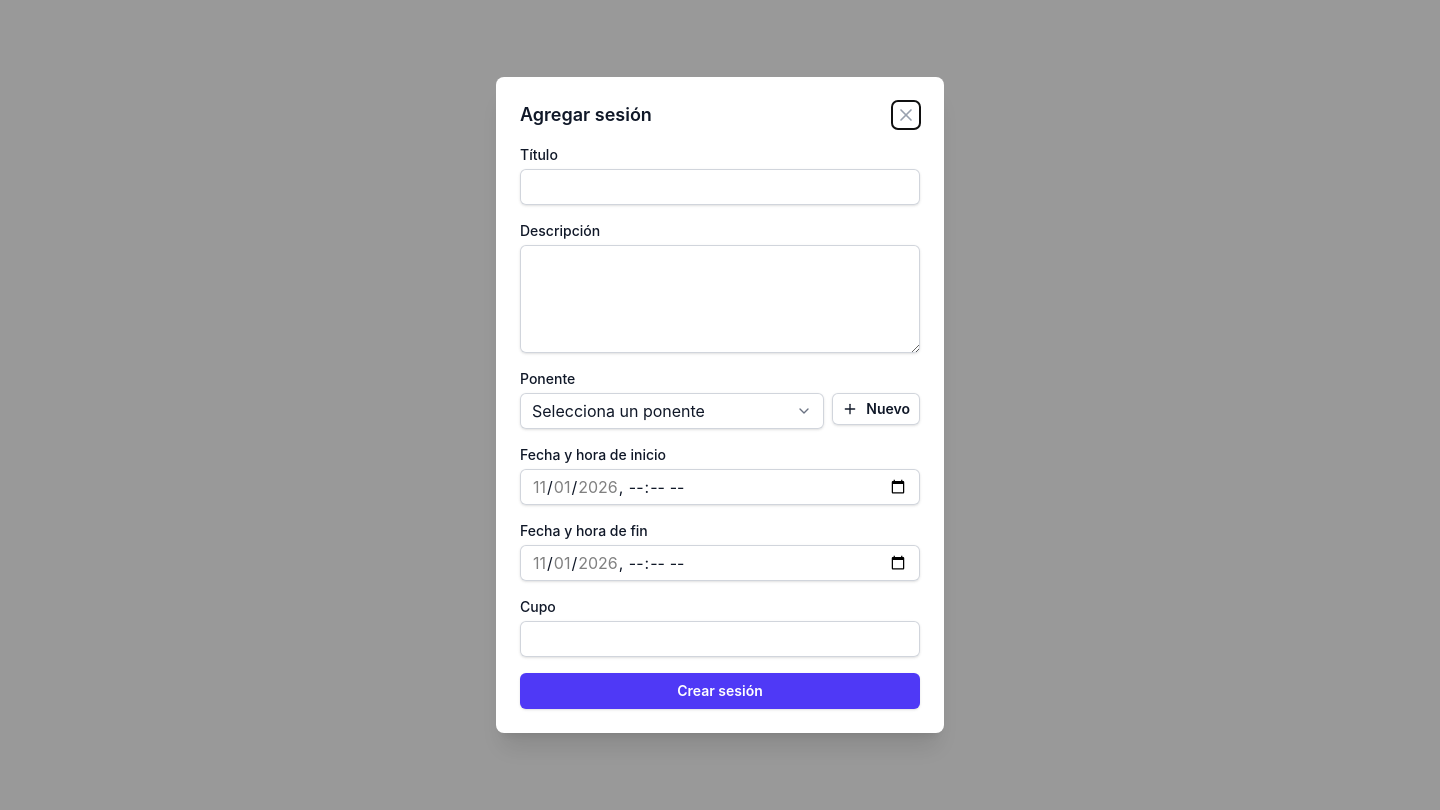
Test case: SessionFormDialog › muestra el error del servidor cuando el horario queda fuera del rango del evento (422 INVALID_SESSION_DATA)
The image size is (1440, 810).
Step 1. Type "Charla fuera de rango" into the field labelled "Título" → (720, 187), box top-left (520, 169), bottom-right (920, 205)
Step 2. Click the dropdown labelled "ponente" → (672, 411), box top-left (520, 393), bottom-right (824, 429)
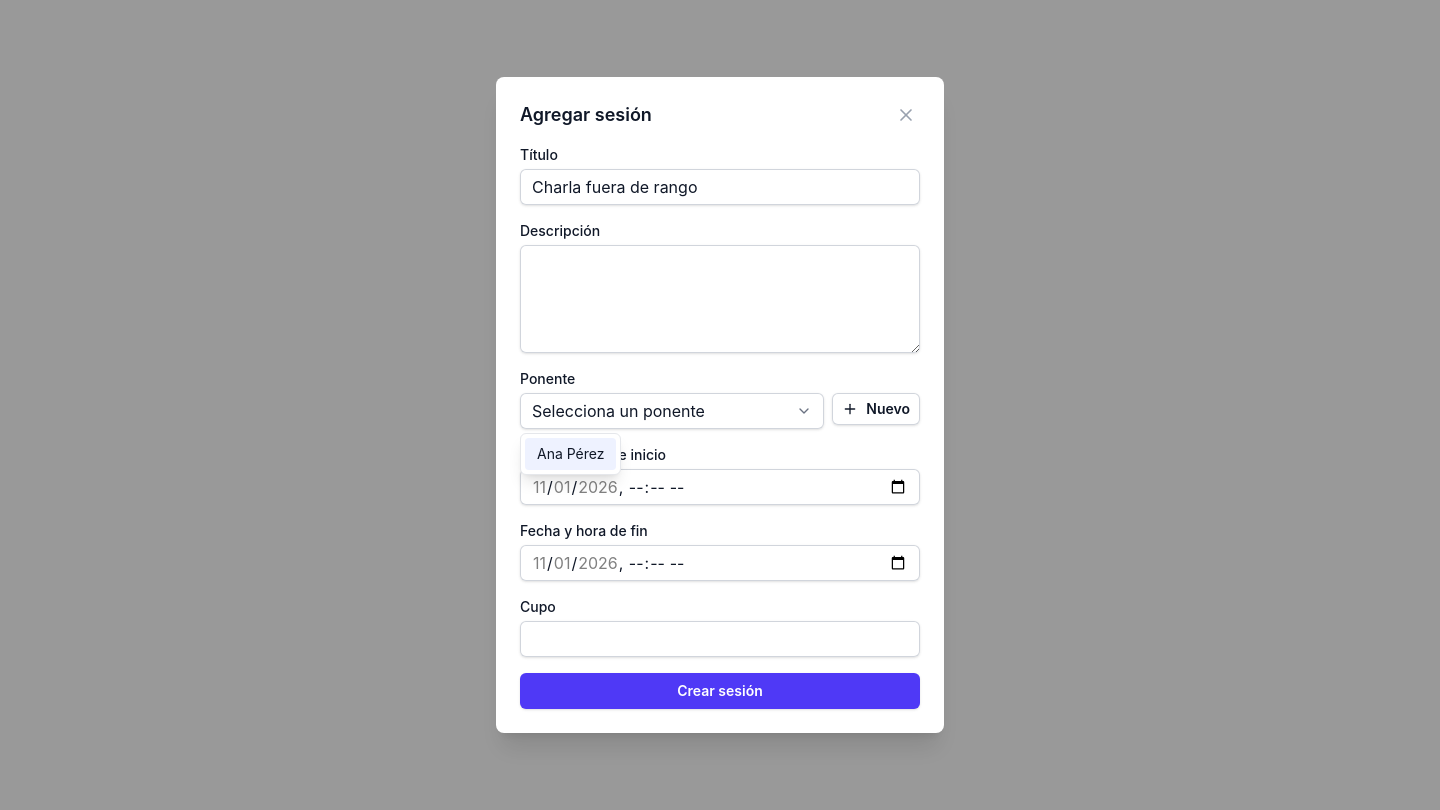
Step 3. Click the option "Ana Pérez" → (571, 454), box top-left (525, 438), bottom-right (616, 470)
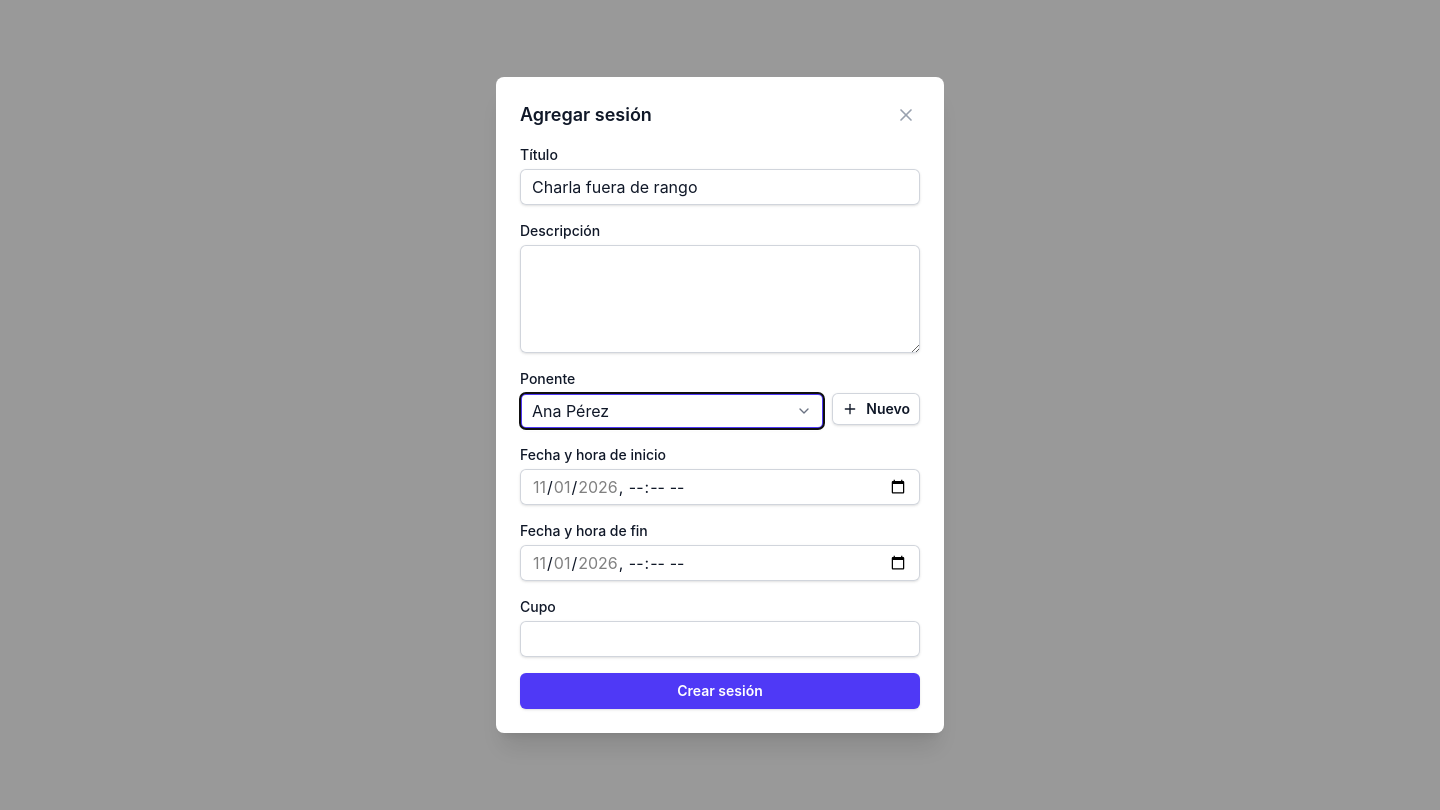
Step 4. Type "2026-11-01T13:00" into the field labelled "Fecha y hora de inicio" → (720, 487), box top-left (520, 469), bottom-right (920, 505)
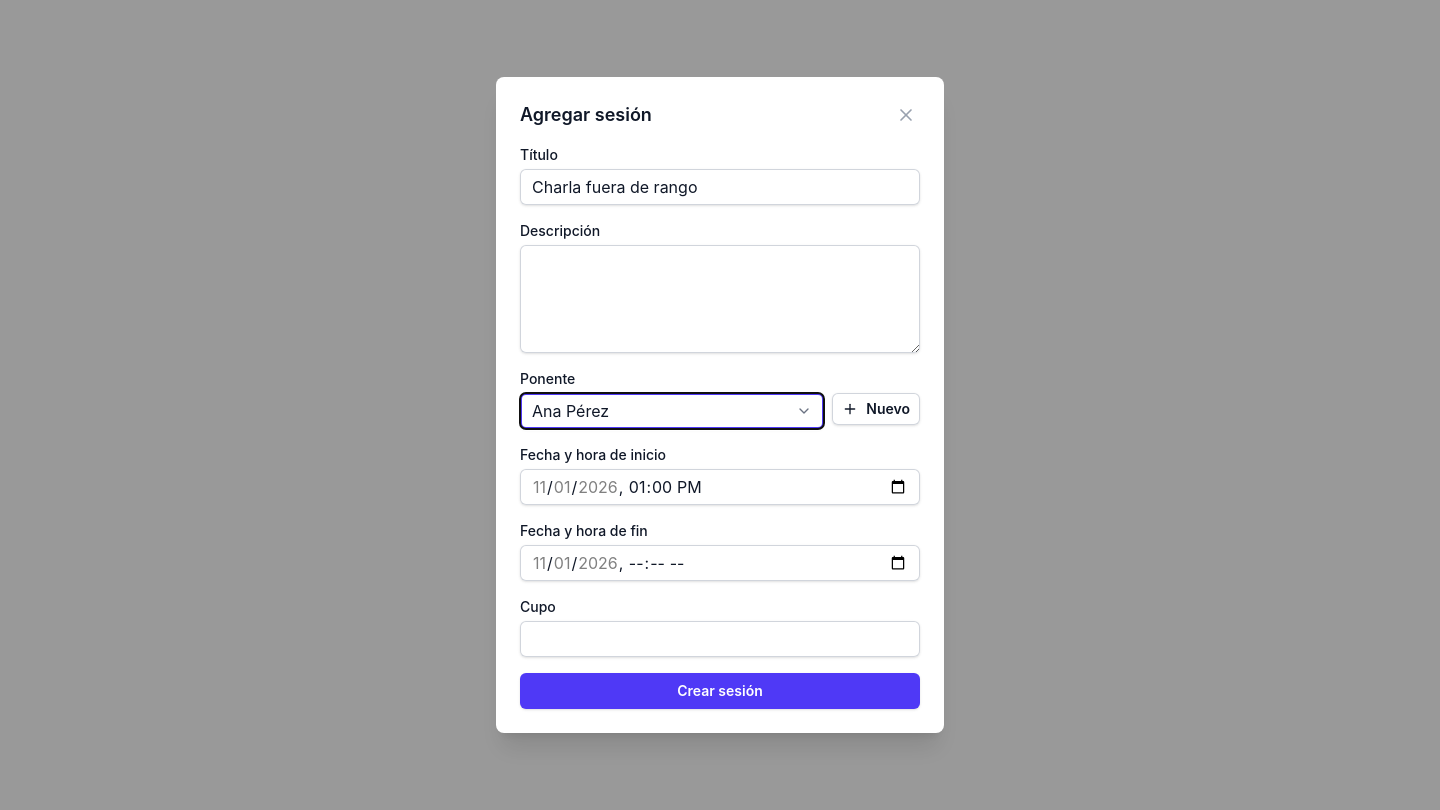
Step 5. Type "2026-11-01T14:00" into the field labelled "Fecha y hora de fin" → (720, 563), box top-left (520, 545), bottom-right (920, 581)
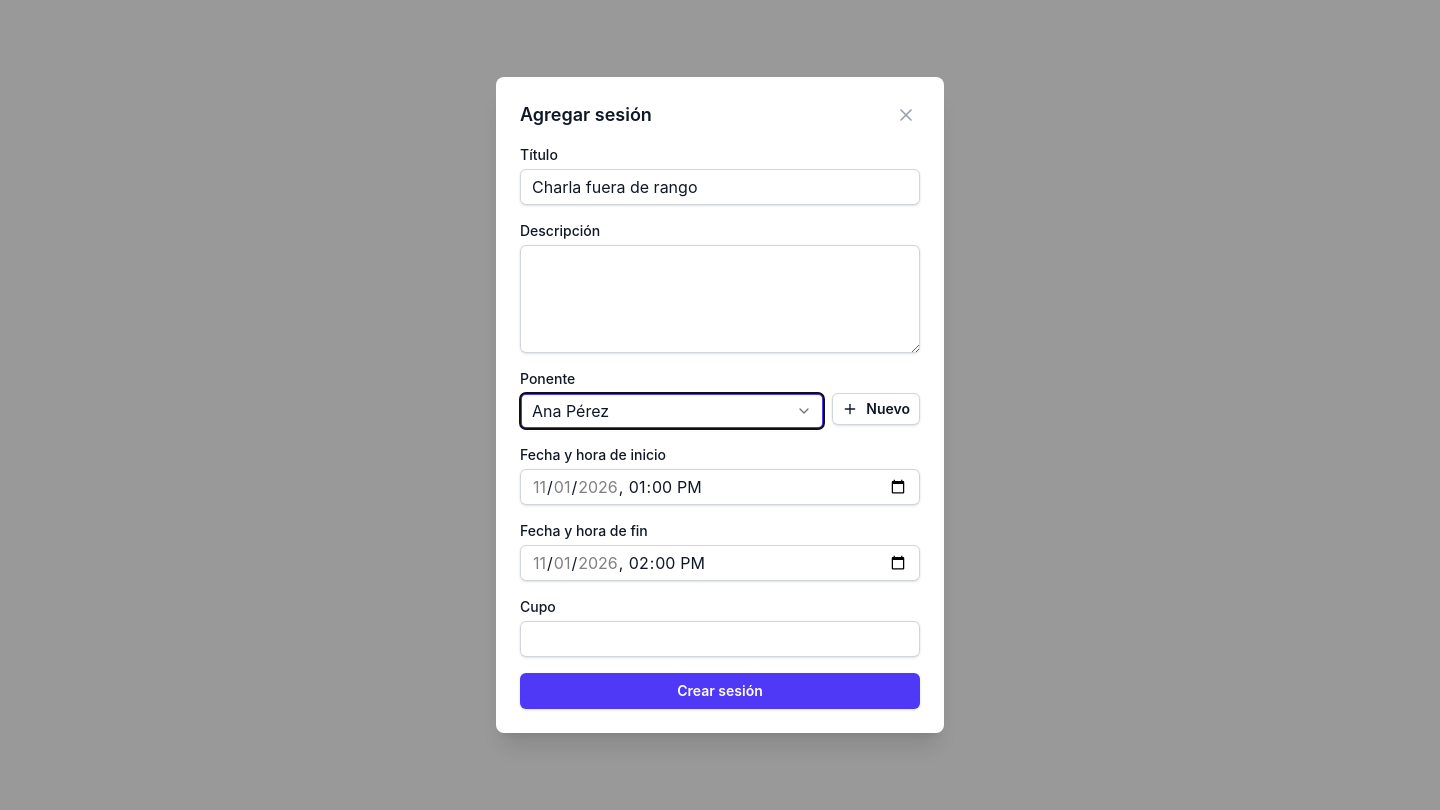
Step 6. Type "2" into the number field labelled "Cupo" → (720, 639), box top-left (520, 621), bottom-right (920, 657)
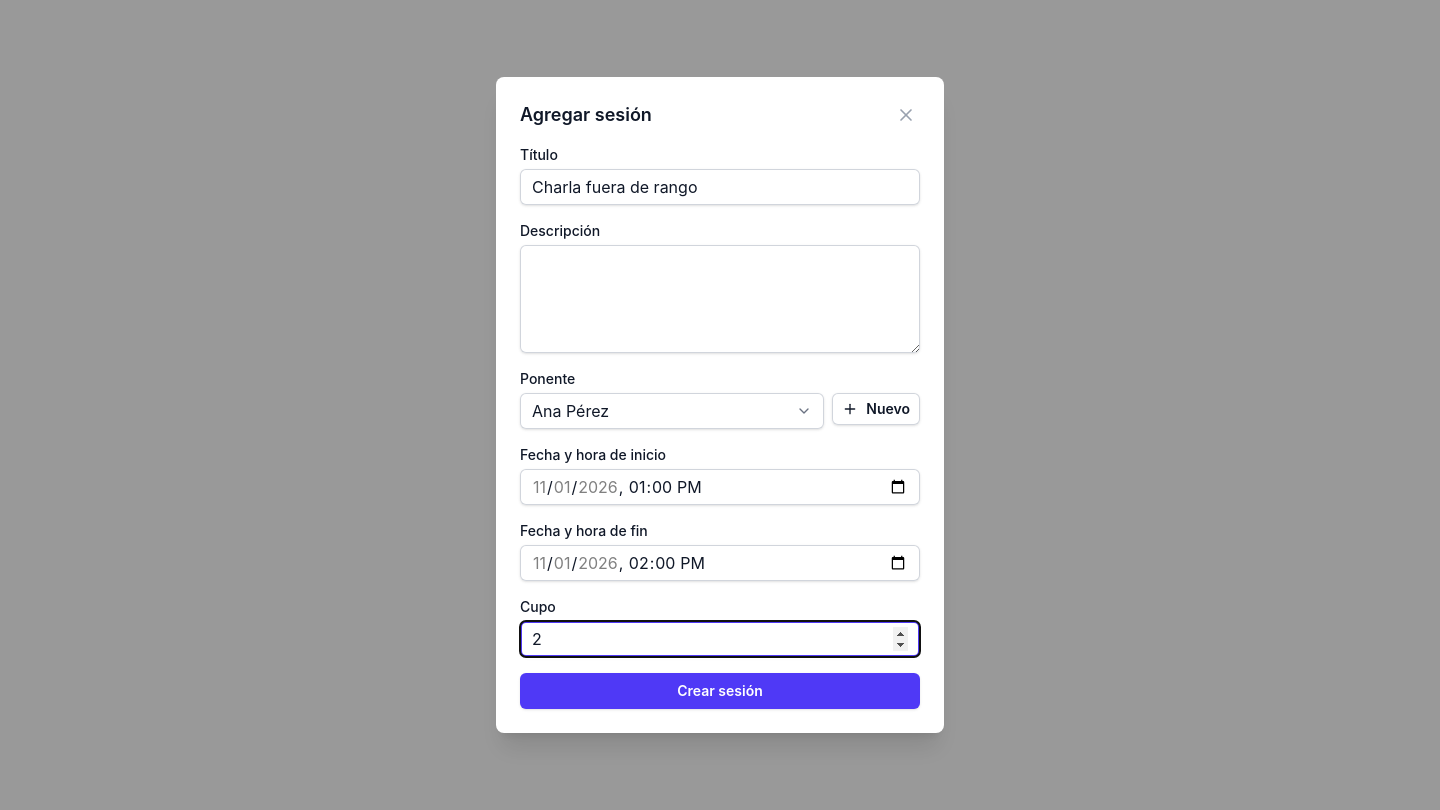
Step 7. Click the button "Crear sesión" → (720, 691), box top-left (520, 673), bottom-right (920, 709)
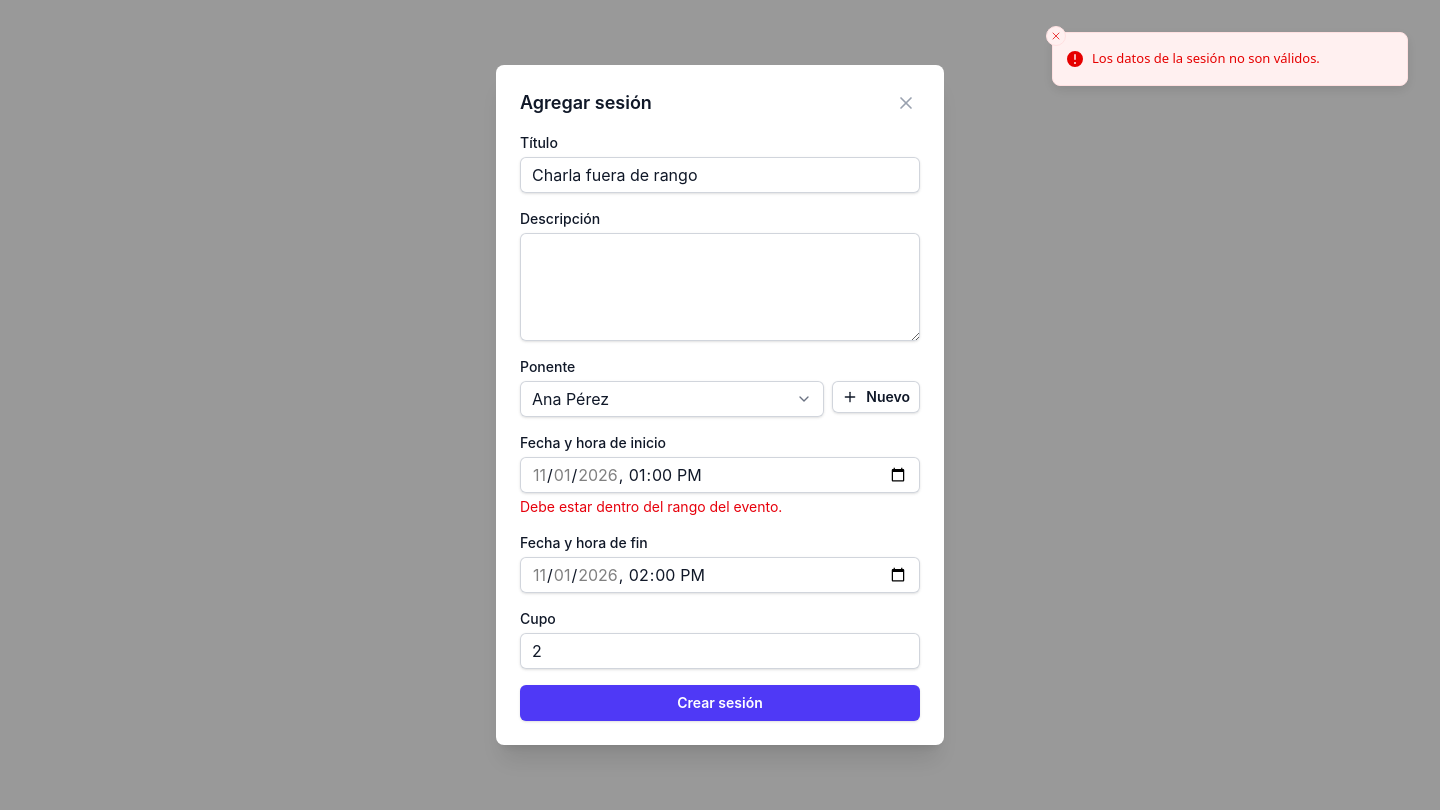
Expected: the text "Debe estar dentro del rango del evento." is shown, top-left (520, 498), bottom-right (782, 515)
Expected: the text "Los datos de la sesión no son válidos." is shown, top-left (1092, 49), bottom-right (1320, 68)
